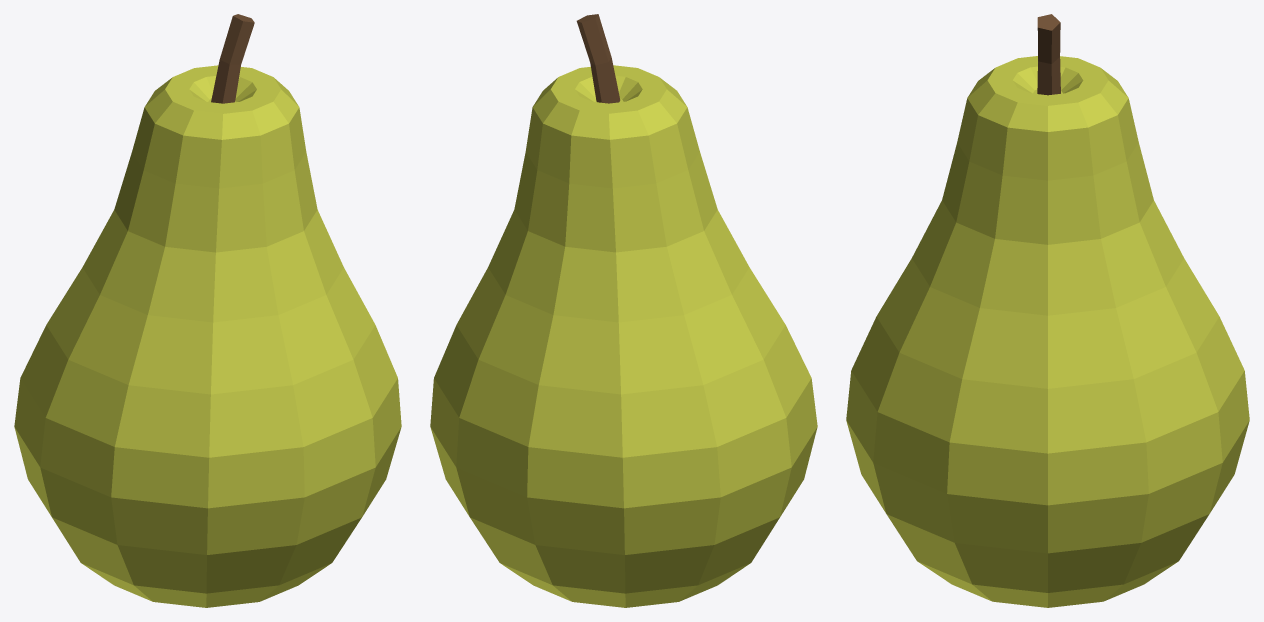
The model's file is pear.glb.
The picture shows the model from 3 angles, left to right: view 1: azimuth 30°, elevation 25°; view 2: azimuth 150°, elevation 25°; view 3: azimuth 270°, elevation 25°; orthographic projection. The views are drawn at different scales.
Parts seen in each view (by area): view 1: Pear full belly and continuous neck; view 2: Pear full belly and continuous neck; view 3: Pear full belly and continuous neck.
Part boxes in pixels (<box>): Pear full belly and continuous neck: <box>14,14,401,607</box>; Pear full belly and continuous neck: <box>430,14,817,607</box>; Pear full belly and continuous neck: <box>846,14,1249,607</box>.
Size of the model in its own units: 0.08 by 0.1258 by 0.08.
